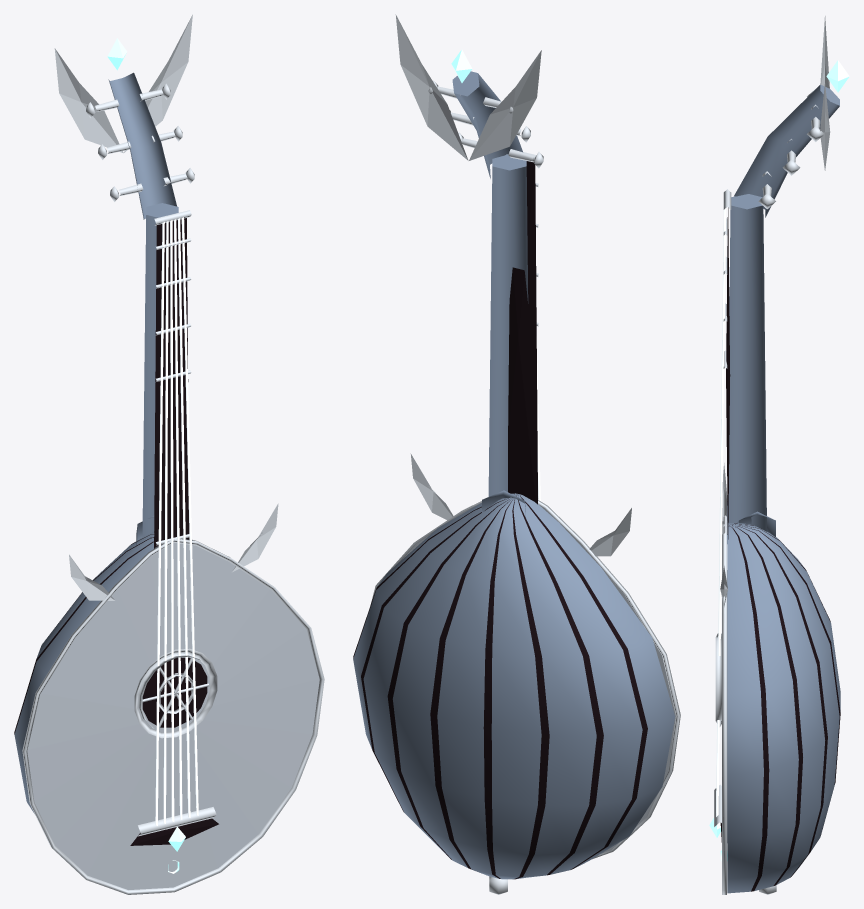
Rendered from lute_2.glb.
3 renders of one model, left to right at view 1: azimuth 30°, elevation 25°; view 2: azimuth 150°, elevation 25°; view 3: azimuth 270°, elevation 25°, orthographic. The views are drawn at different scales.
Visible parts, largest first — view 1: lute_2; view 2: lute_2; view 3: lute_2.
Boxes of the visible parts, <box> form: lute_2: <box>14,14,324,894</box>; lute_2: <box>353,14,680,894</box>; lute_2: <box>709,16,849,894</box>.
Bounding box in the file's own units: 0.2688 × 0.718 × 0.108.
